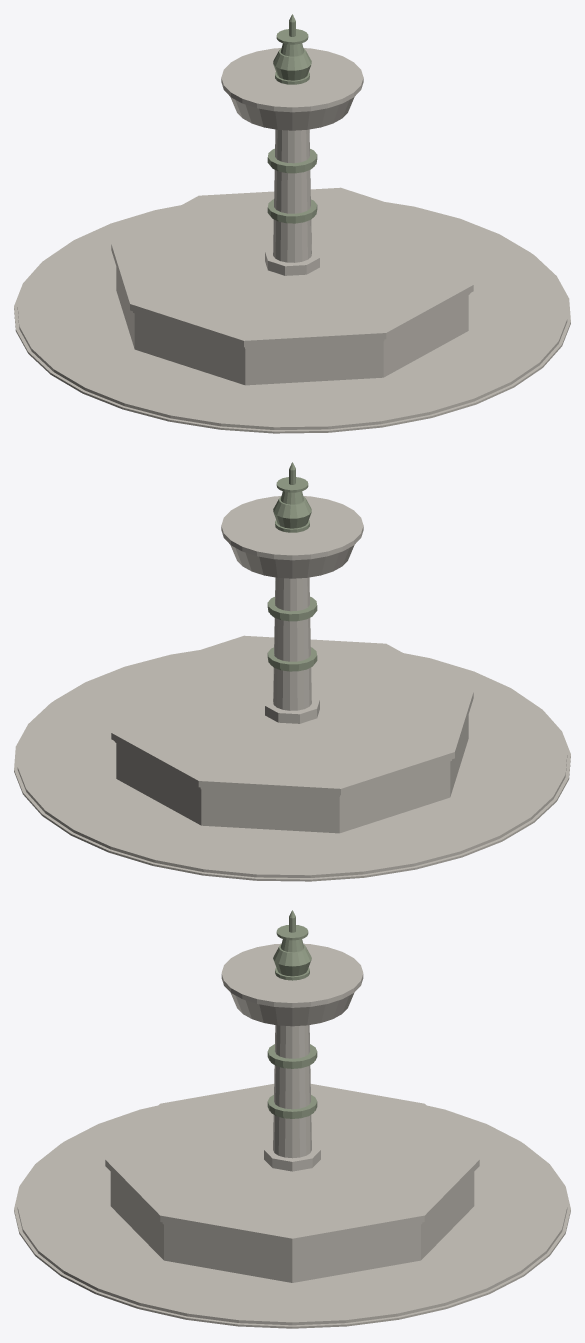
The model's file is cp_cherry_hill_fountain.glb.
The picture shows the model from 3 angles, top to bottom: view 1: azimuth 30°, elevation 25°; view 2: azimuth 150°, elevation 25°; view 3: azimuth 270°, elevation 25°; orthographic projection.
Parts seen in each view (by area): view 1: CherryHillFountain; view 2: CherryHillFountain; view 3: CherryHillFountain.
Part boxes in pixels (bbox=[...]): CherryHillFountain: bbox=[14, 14, 570, 433]; CherryHillFountain: bbox=[14, 462, 570, 881]; CherryHillFountain: bbox=[14, 910, 570, 1328].
Bounding box in the file's own units: 6.28 × 3.74 × 6.28.
